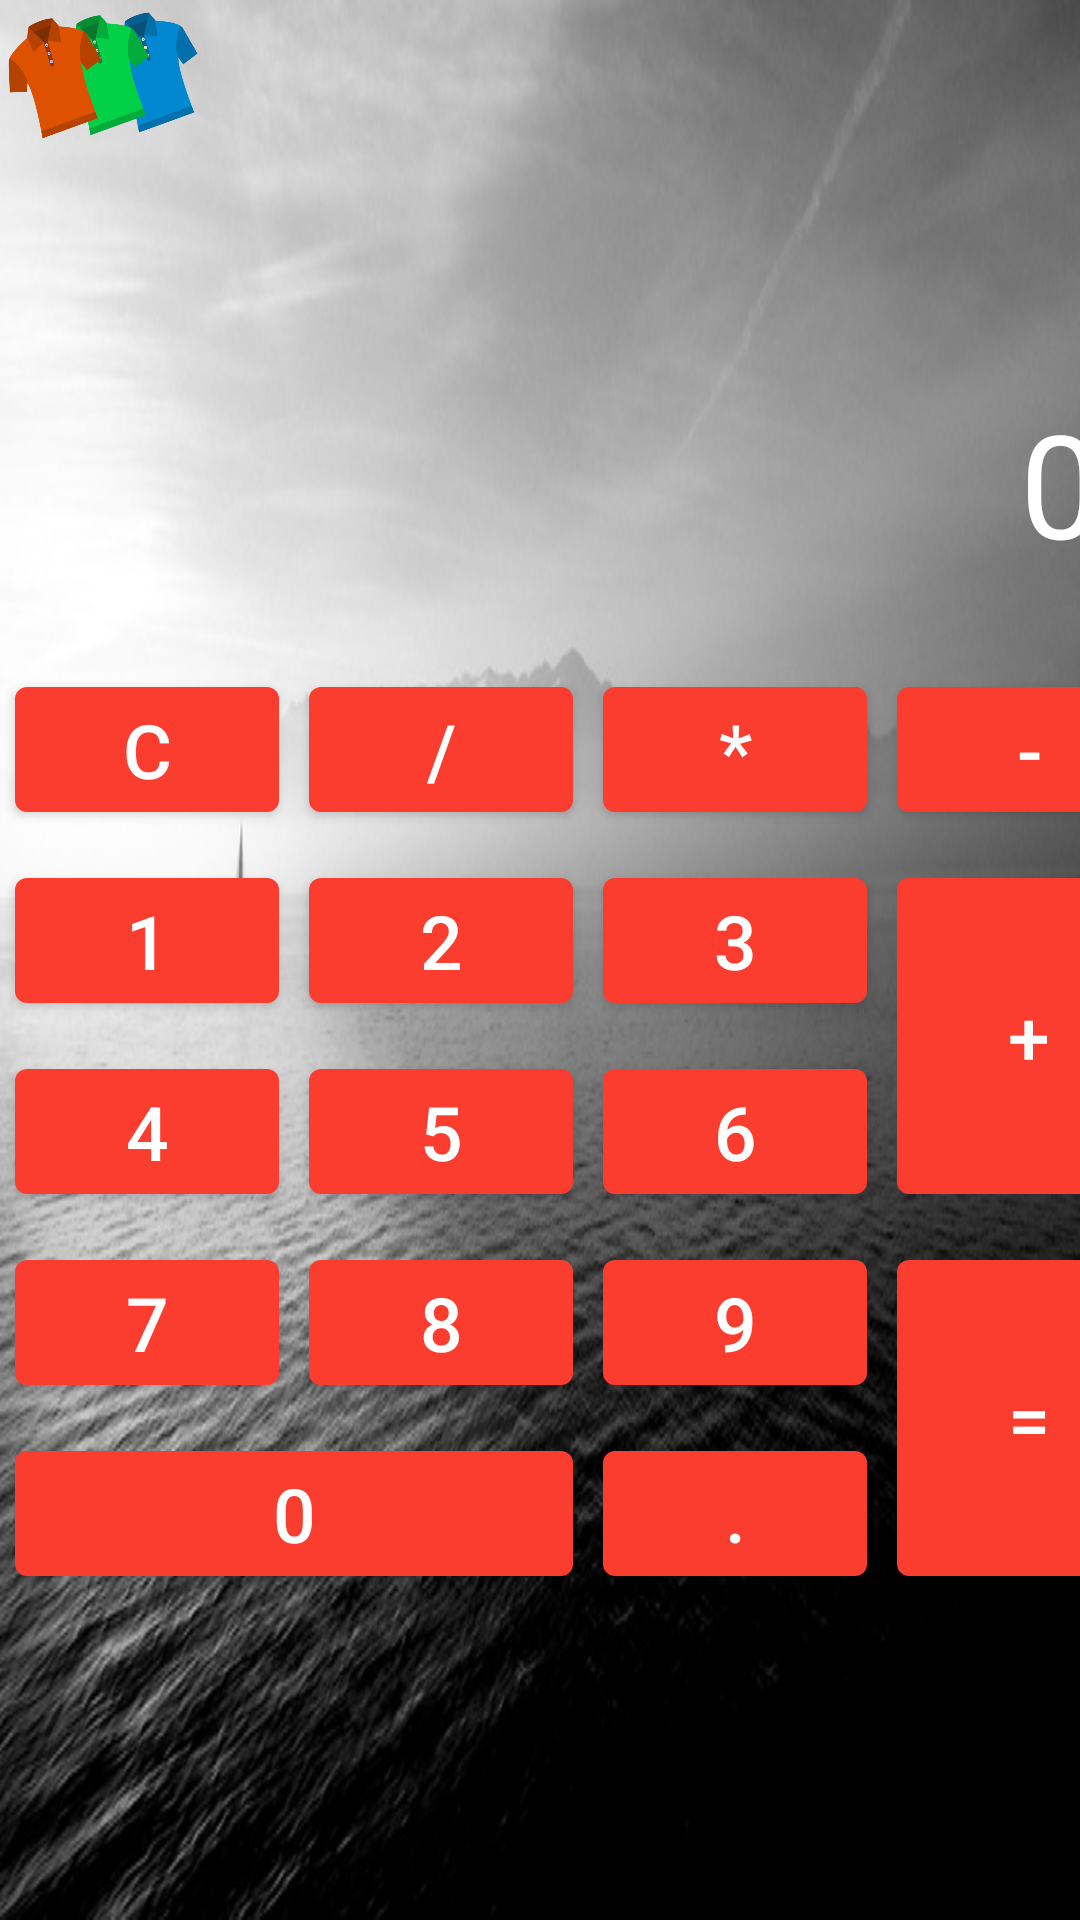

Icon click points for this 1080px×1920px phone screenshot, format (x,y):
themes: (103,75)
